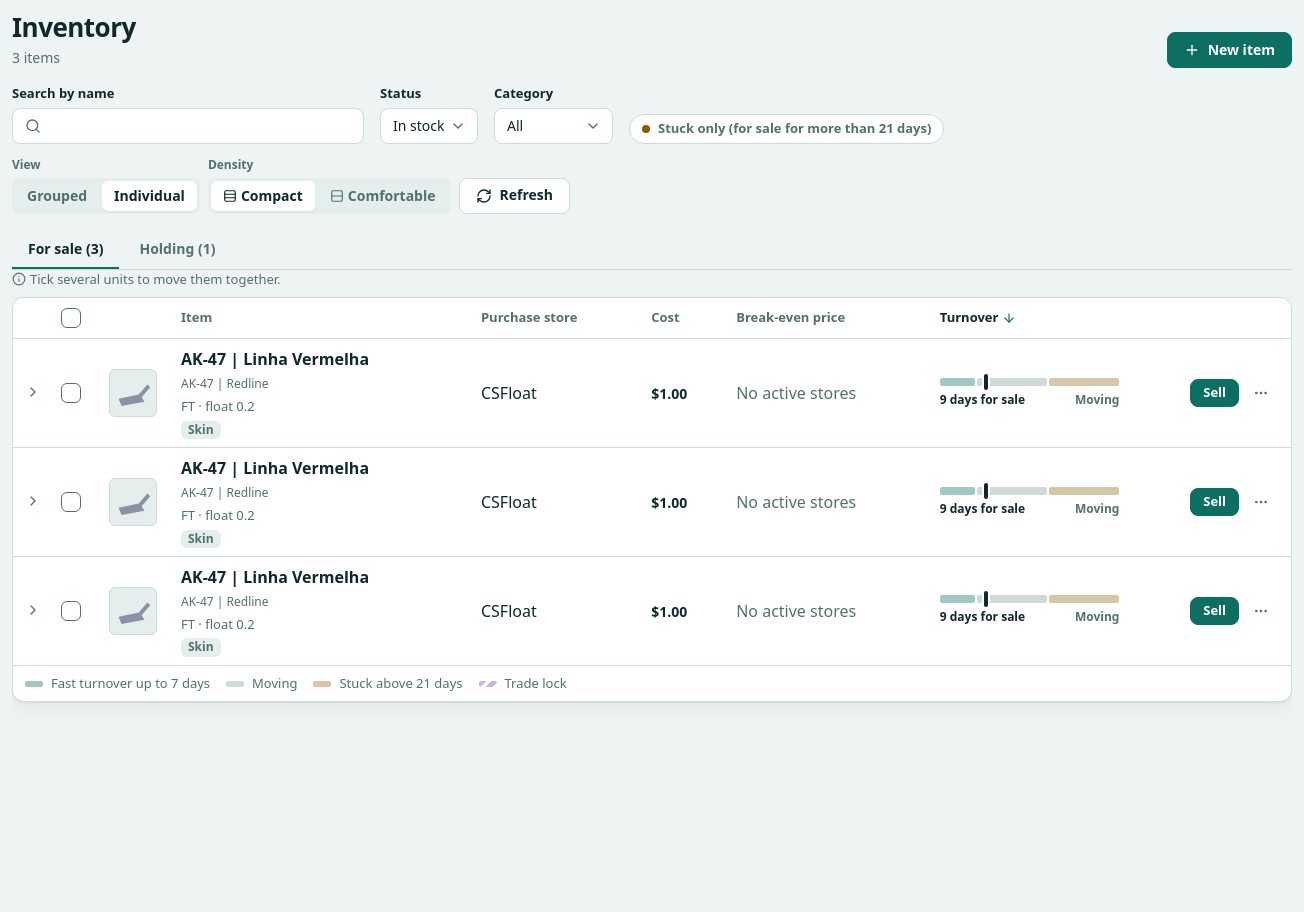
Scenario: seleção na página (visão individual) › marcar mostra a barra e a dica fica sempre visível
The width and height of the screenshot is (1304, 912).
Check: the text "Tick several units to move them together." is shown, box [30,270,281,289]
Click the checkbox named "Select AK-47 | Linha Vermelha (#1)": (71, 393) [61,383,81,403]
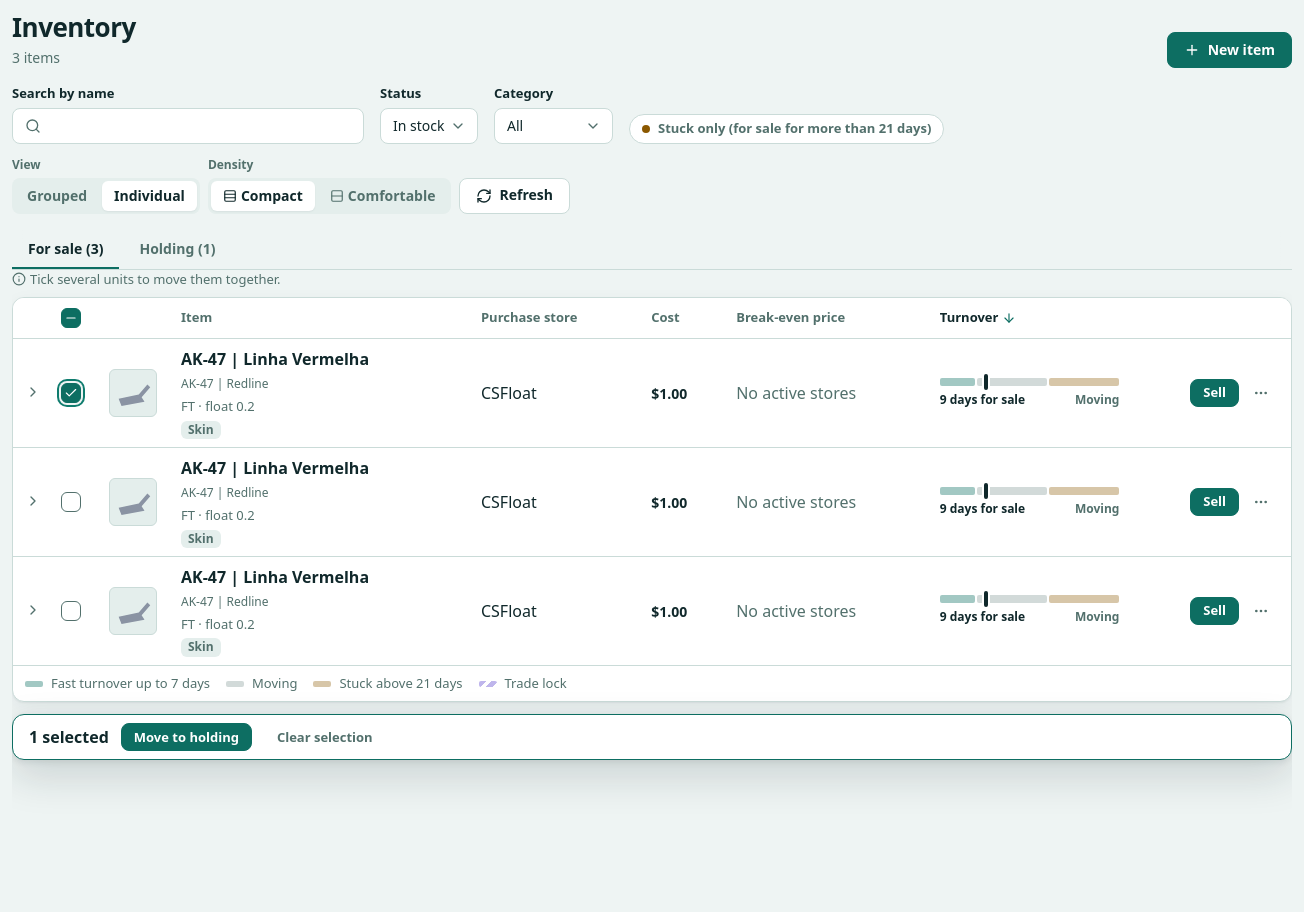
Click the checkbox named "Select AK-47 | Linha Vermelha (#2)": (71, 502) [61,492,81,512]
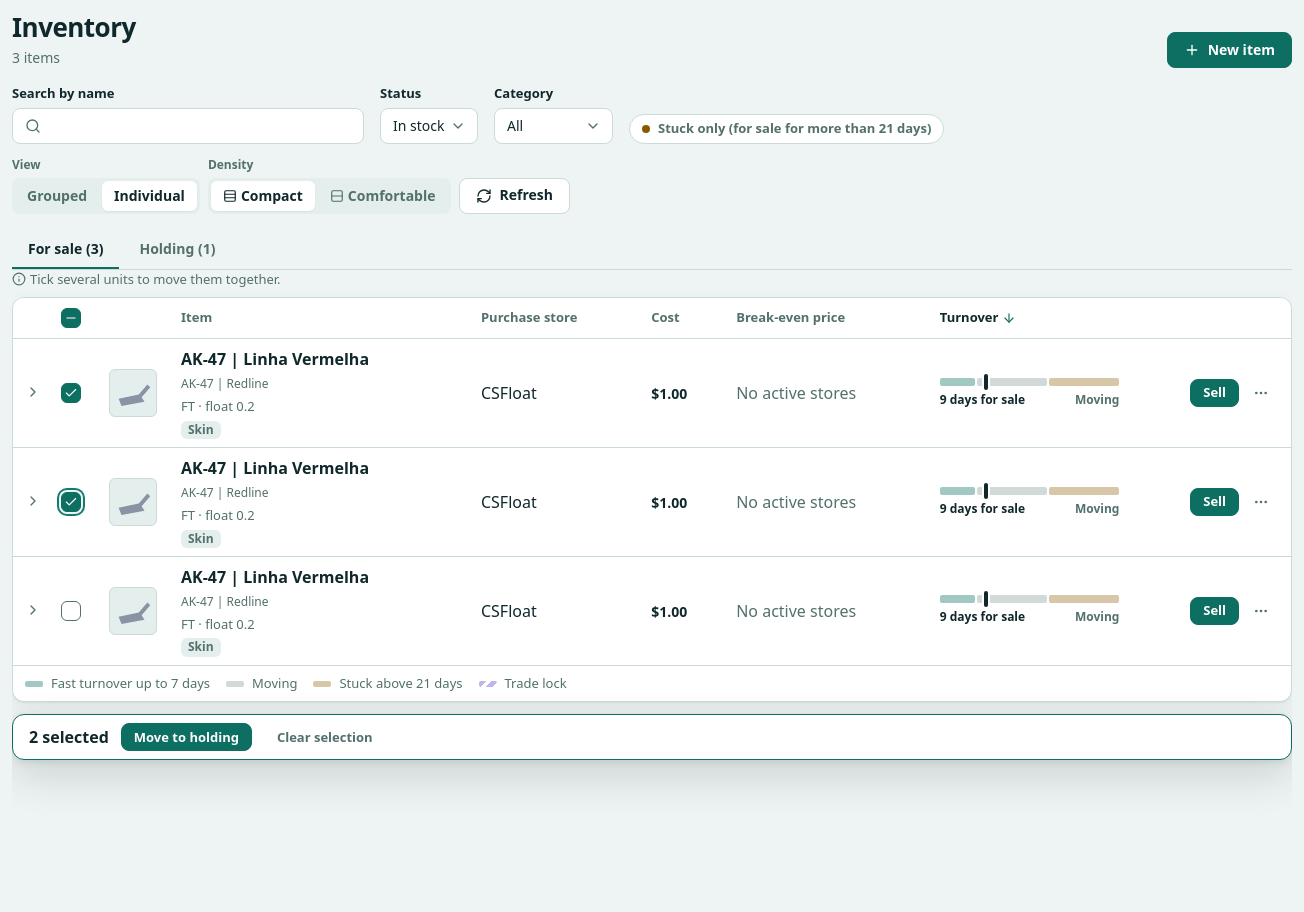
Check: the text "2 selected" is shown, box [29,725,109,749]
